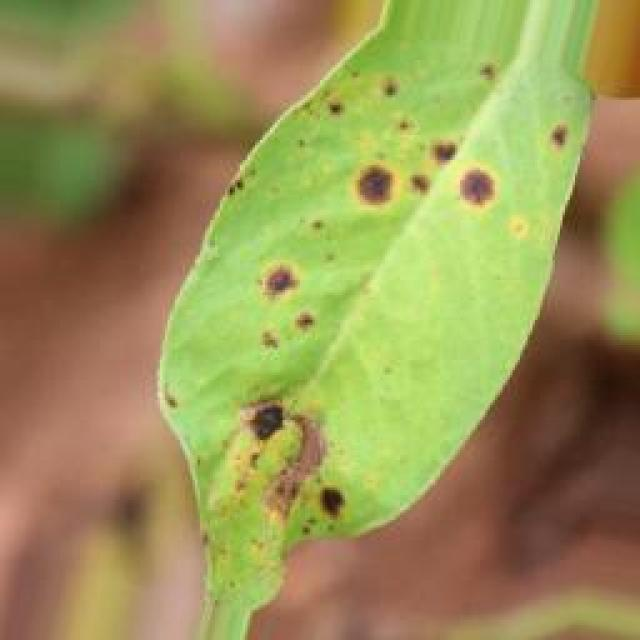Yellowish: (135, 19, 598, 569)
